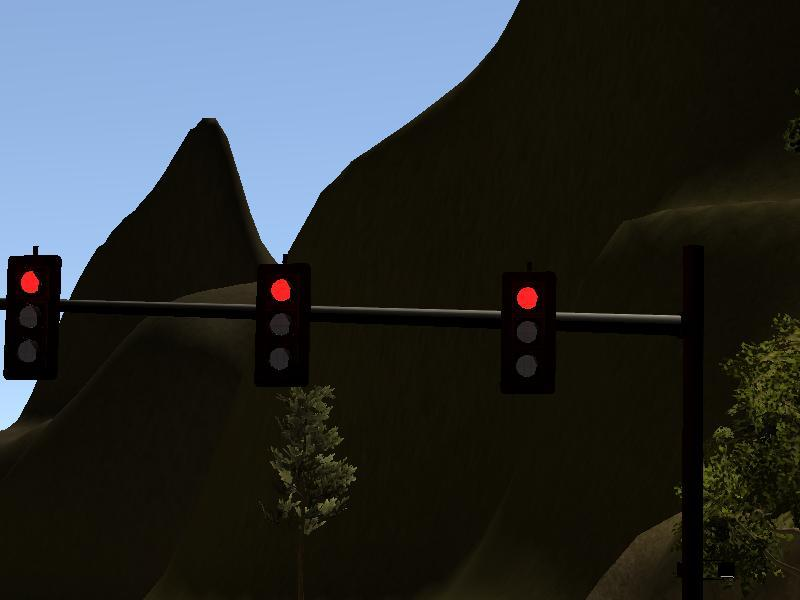Red: (8, 257, 58, 376), (505, 276, 552, 389), (262, 265, 306, 383)
